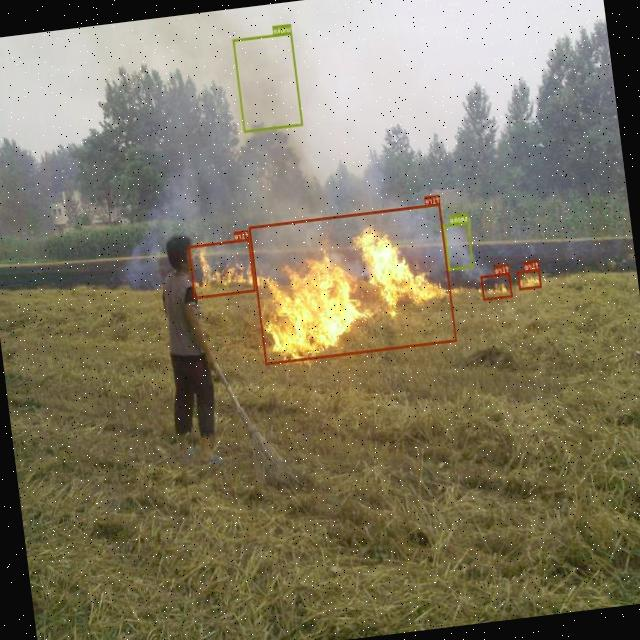fire: (248, 202, 458, 364), (188, 237, 255, 298), (480, 272, 512, 299), (517, 268, 542, 290)
smoke: (232, 31, 304, 132), (444, 220, 474, 270)
